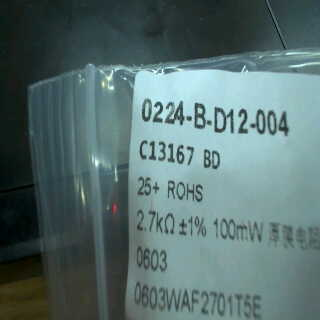2.7kR: (136, 206, 177, 239)
